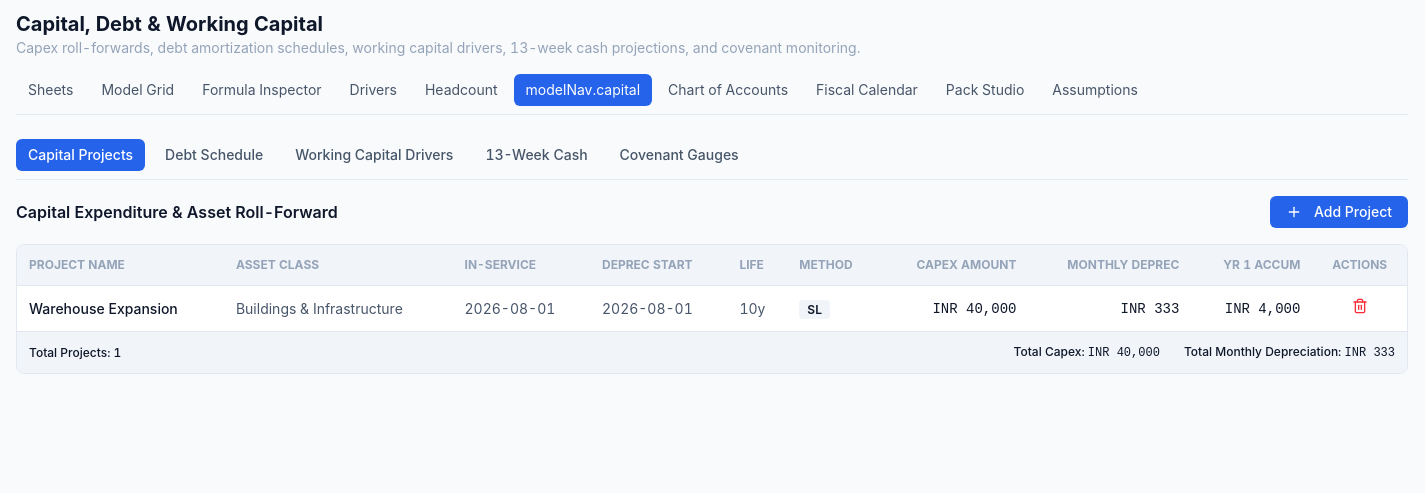
S-046 Capital, Debt & Working Capital screen (F-017 · M3-7) › switches to Covenant Gauges and displays compliance metrics
The image size is (1425, 493).
Click the tab "Covenant Gauges": (679, 155) [608, 139, 751, 171]
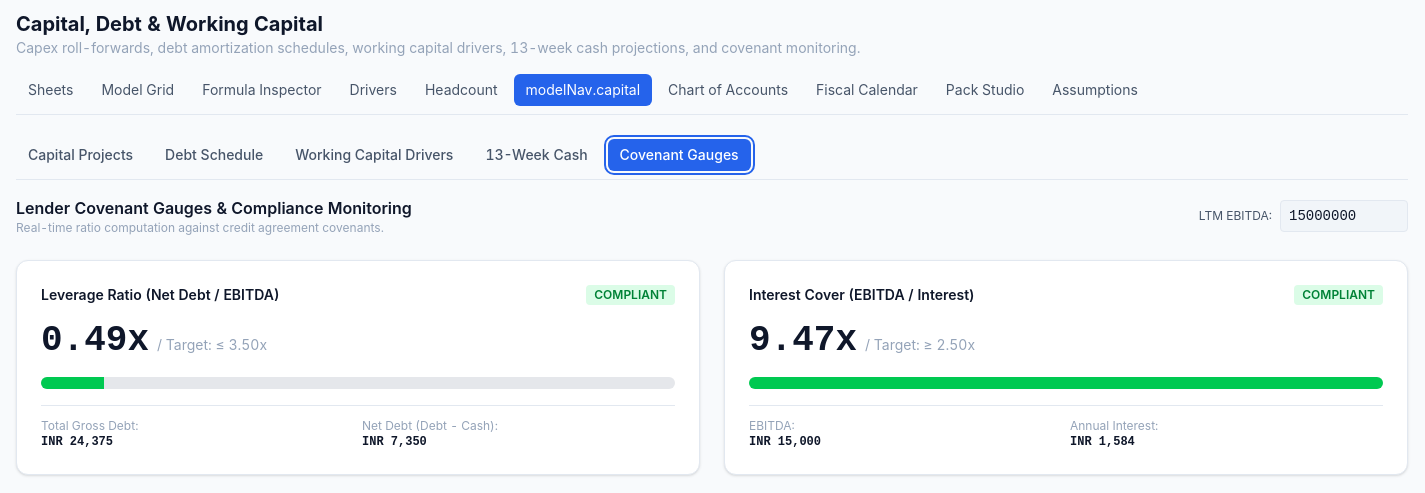
Result: the heading "Lender Covenant Gauges & Compliance Monitoring" is shown at [16, 196, 412, 220]
Result: the heading "Leverage Ratio (Net Debt / EBITDA)" is shown at [41, 285, 279, 305]
Result: the heading "Interest Cover (EBITDA / Interest)" is shown at [749, 285, 975, 305]
